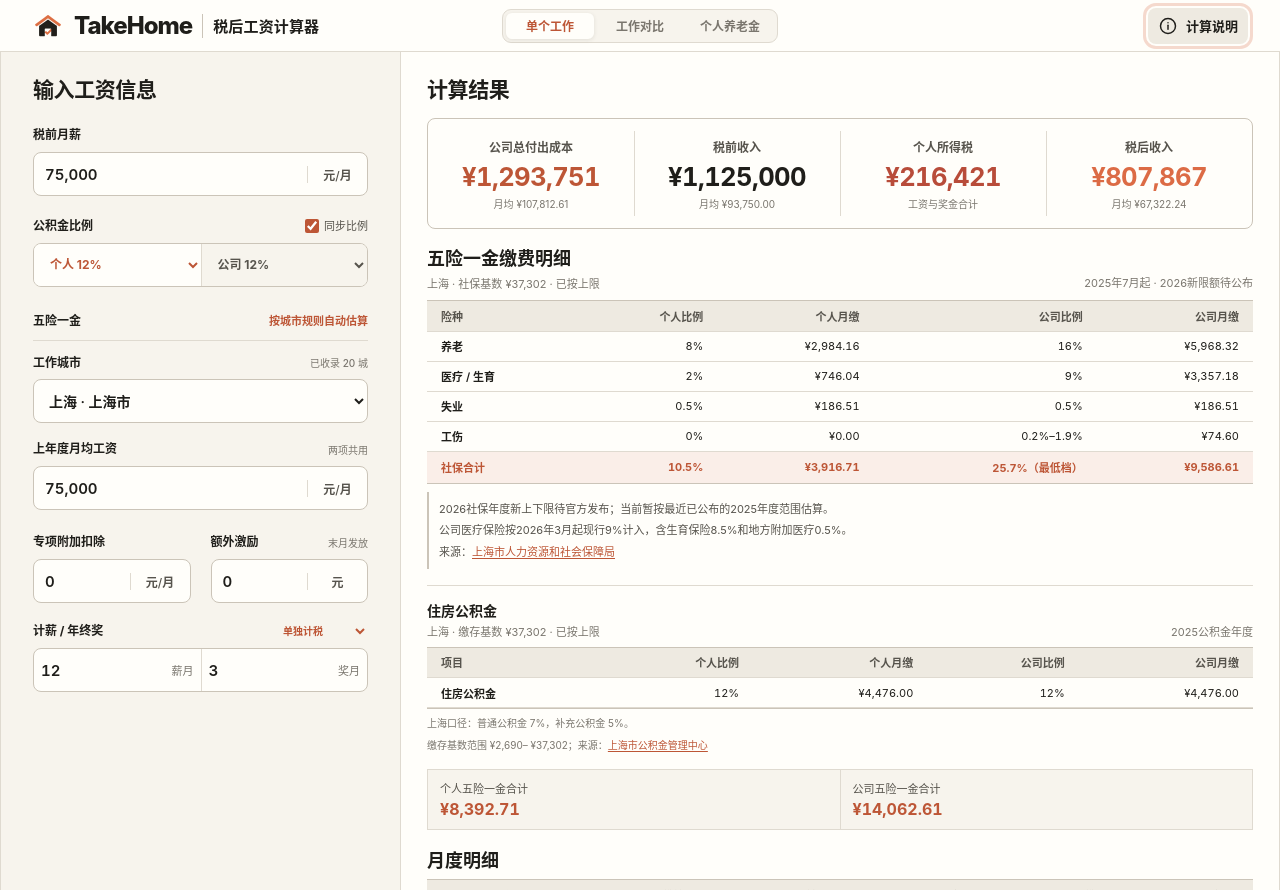
it: App interactions › moves focus into the info dialog, traps Escape, and restores focus
Click the button "计算说明" at (1198, 26), box [1148,8,1248,44]
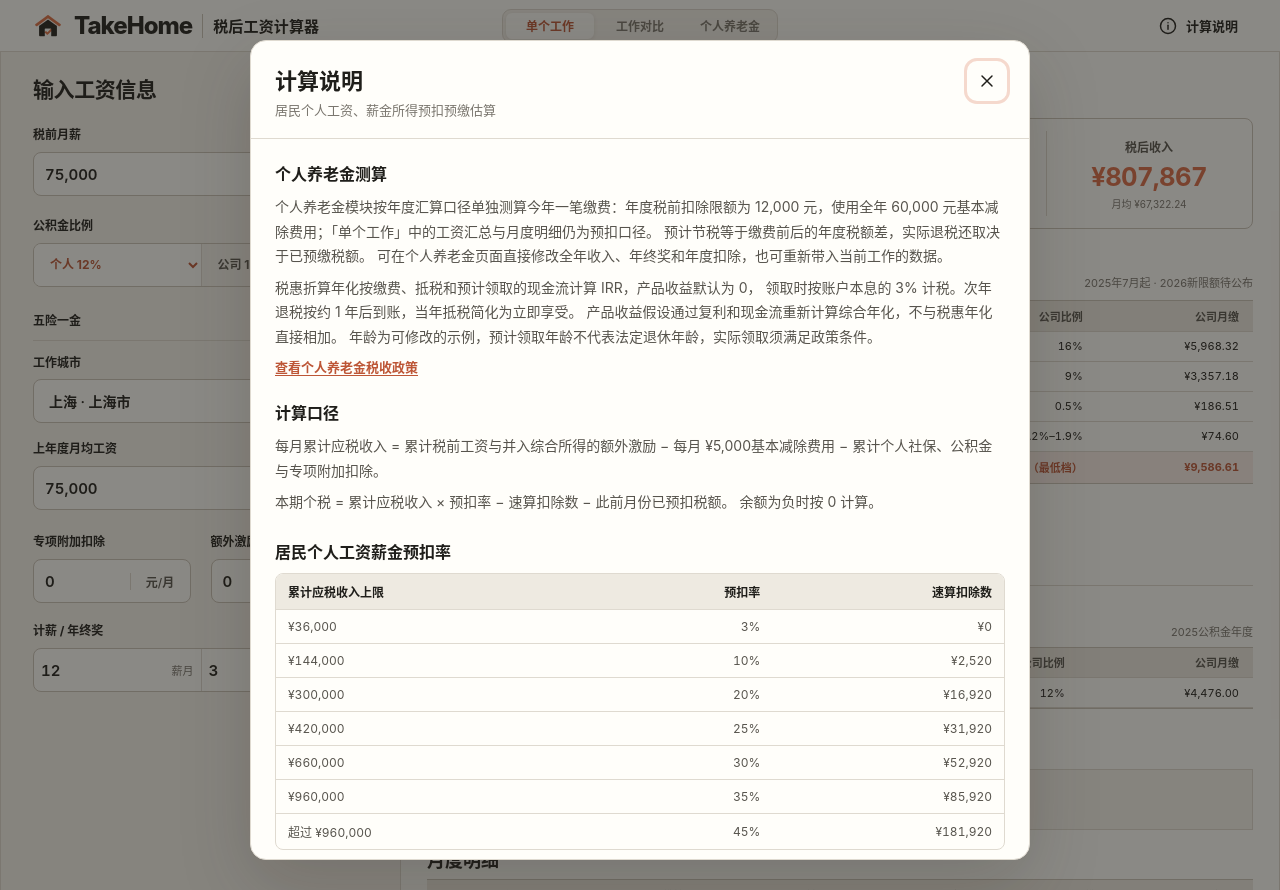
Expected: the dialog is shown, [250,40,1030,860]
Press Escape
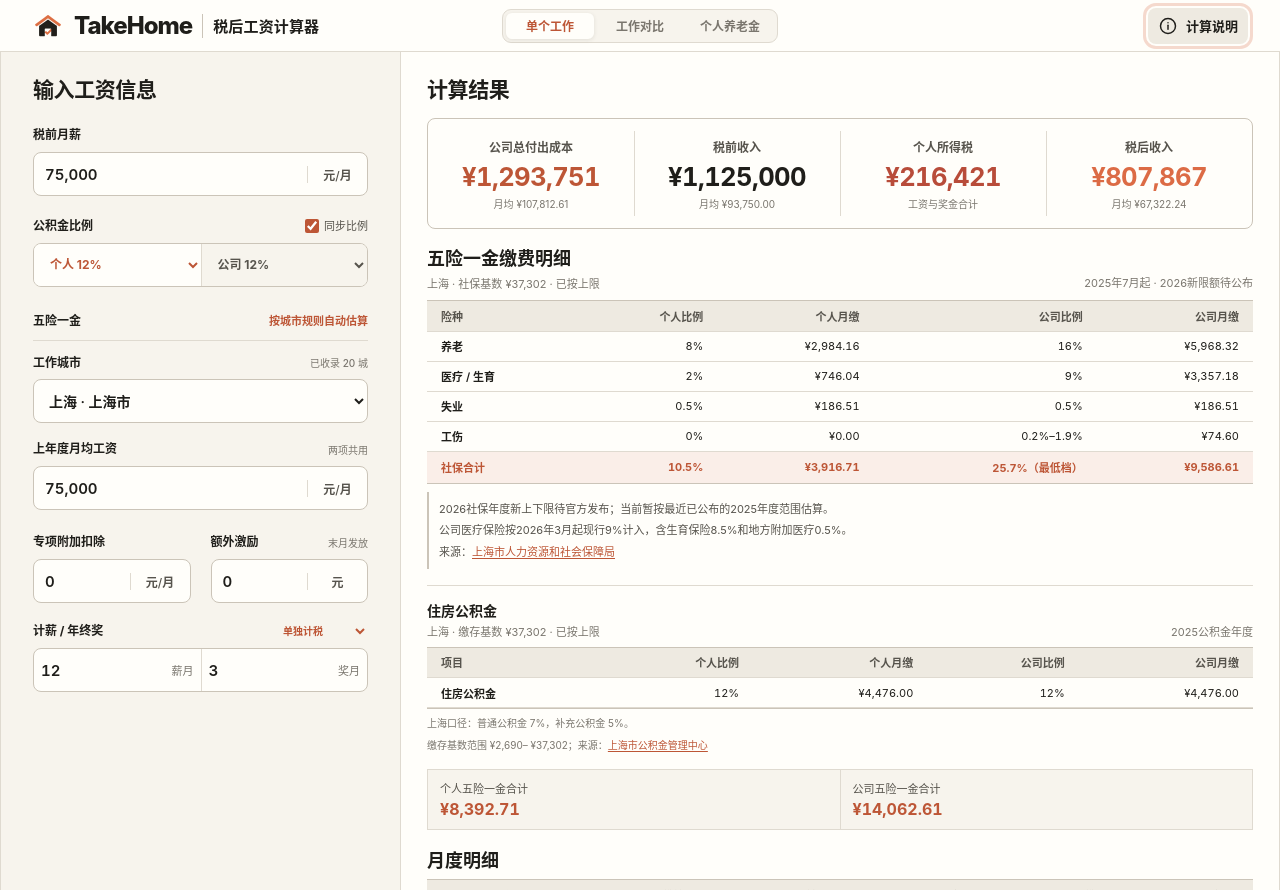
Expected: the dialog is gone
